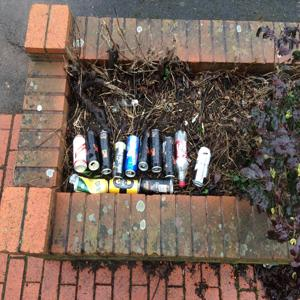metal: (146, 125, 170, 177), (67, 172, 115, 196), (97, 124, 118, 176), (159, 129, 179, 180), (109, 135, 128, 183), (70, 130, 88, 176), (107, 175, 139, 199), (141, 175, 177, 196), (85, 126, 99, 173), (194, 143, 207, 193), (137, 129, 151, 174), (126, 132, 138, 183)
plastic bottle: (174, 127, 190, 183)
